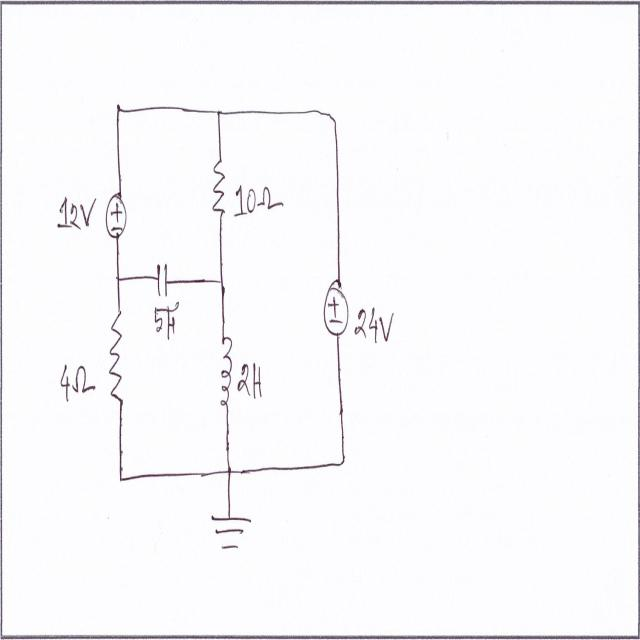capacitor: (154, 261, 172, 303)
ground: (210, 511, 255, 560)
inductor: (218, 327, 236, 422)
resistor: (108, 307, 126, 410), (211, 152, 228, 220)
voltage_source: (322, 279, 351, 341), (104, 191, 129, 246)
